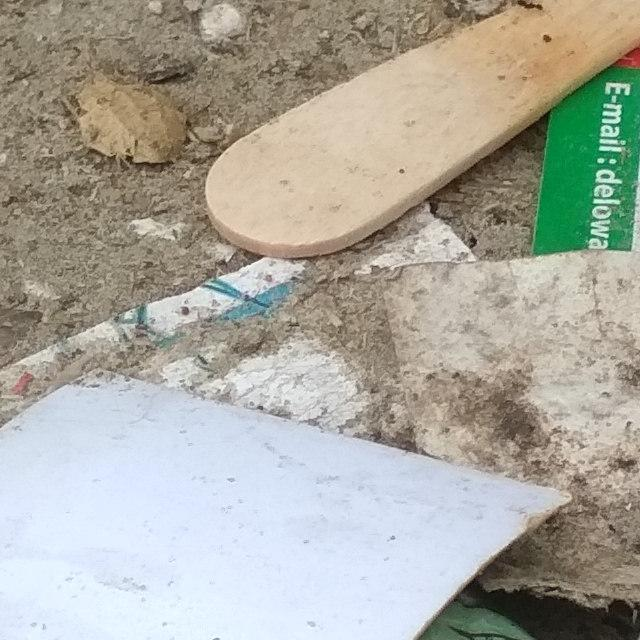paper: (0, 322, 584, 640), (13, 377, 640, 640)
